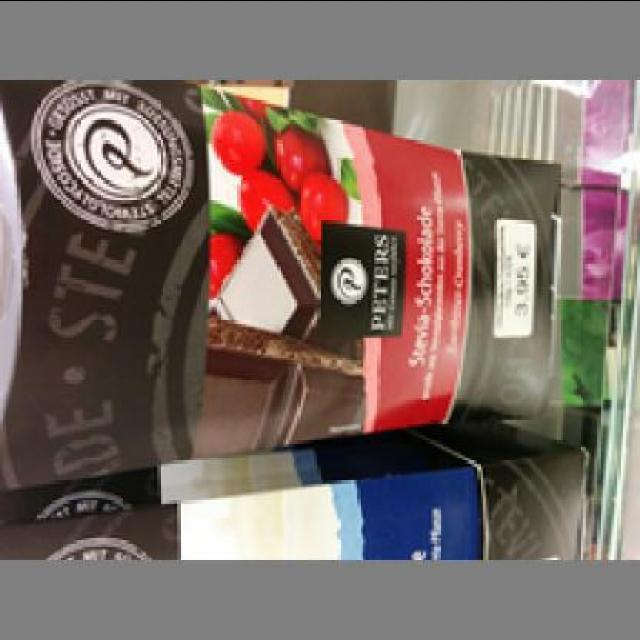Chocolate bar: (2, 85, 556, 492)
